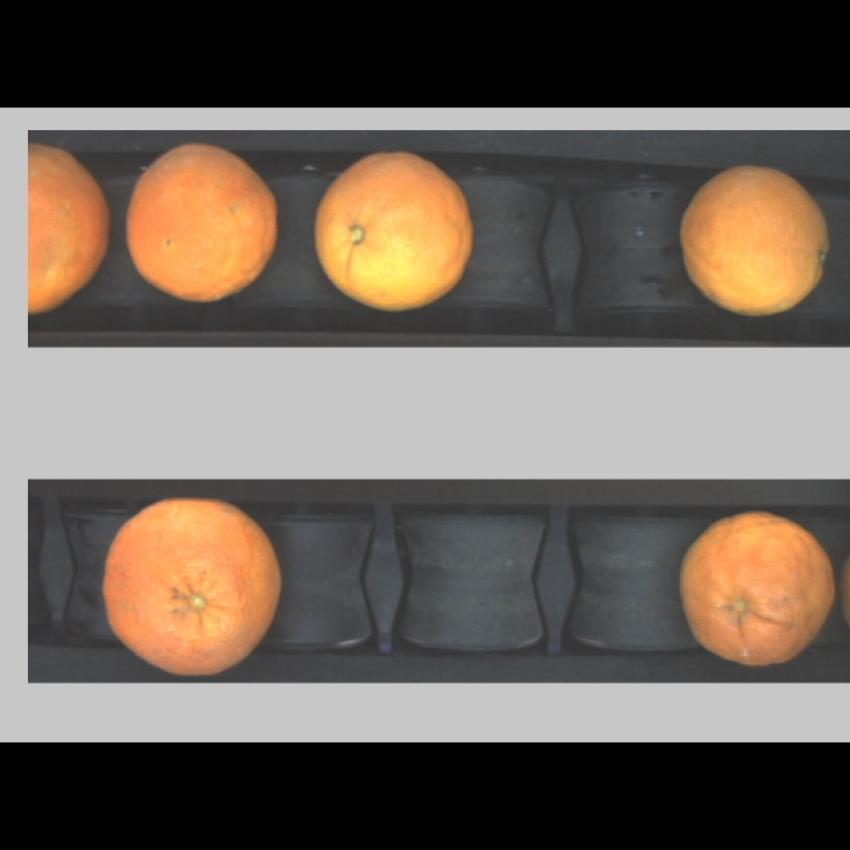Buen estado: (309, 142, 482, 312), (675, 158, 835, 318)
Mal estado: (97, 490, 292, 681), (675, 504, 835, 668), (122, 148, 286, 298), (26, 140, 114, 321)
